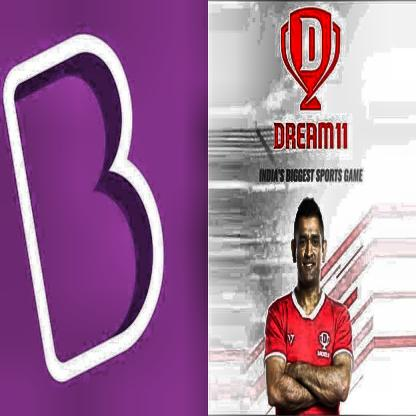Byjus: (3, 31, 164, 380)
Dream11: (280, 7, 342, 113), (272, 122, 349, 151)
